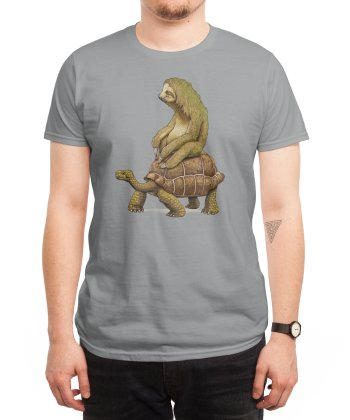design: (112, 75, 228, 222)
